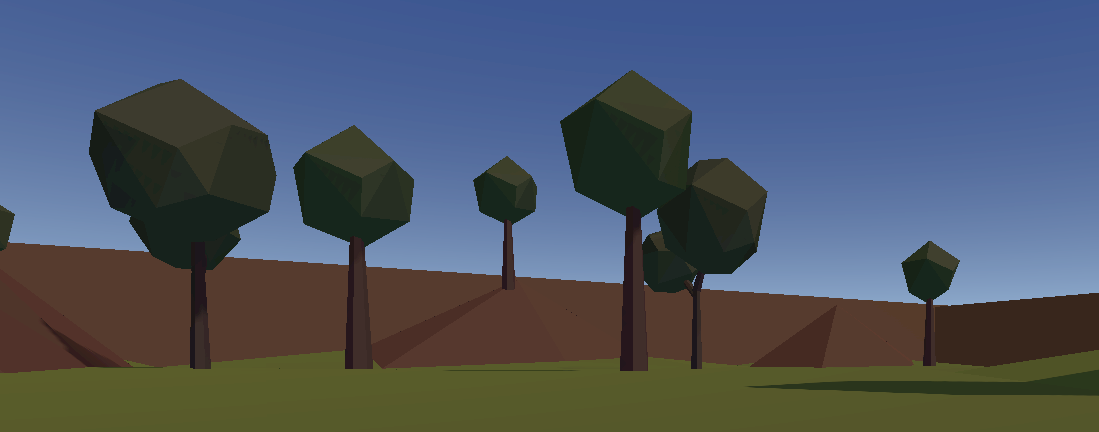tree: (87, 78, 277, 365), (552, 72, 694, 366), (292, 124, 416, 364), (641, 150, 770, 370), (470, 157, 540, 282), (898, 237, 964, 365)
